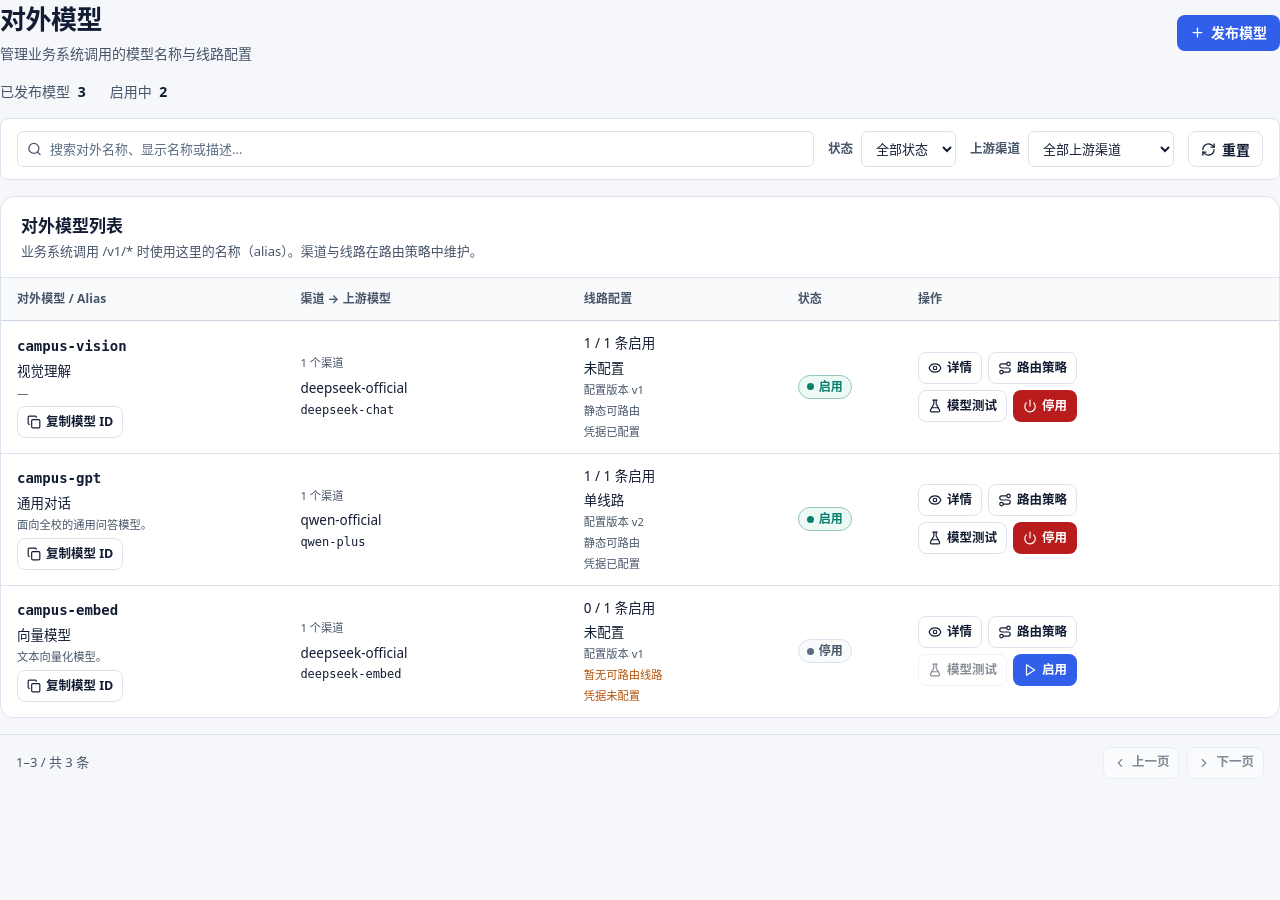
it: PublishedModelsPage › shows the real channel and upstream relationship, copies the full alias and opens its diagnostic directly
This screenshot has width=1280, height=900.
Check: the row "campus-vision" shows "deepseek-official", box [300,379,407,397]
Check: the row "campus-vision" shows "deepseek-chat", box [300,402,394,416]
Click the button "复制模型 ID" below "视觉理解" at (70, 422), box [17,406,123,438]
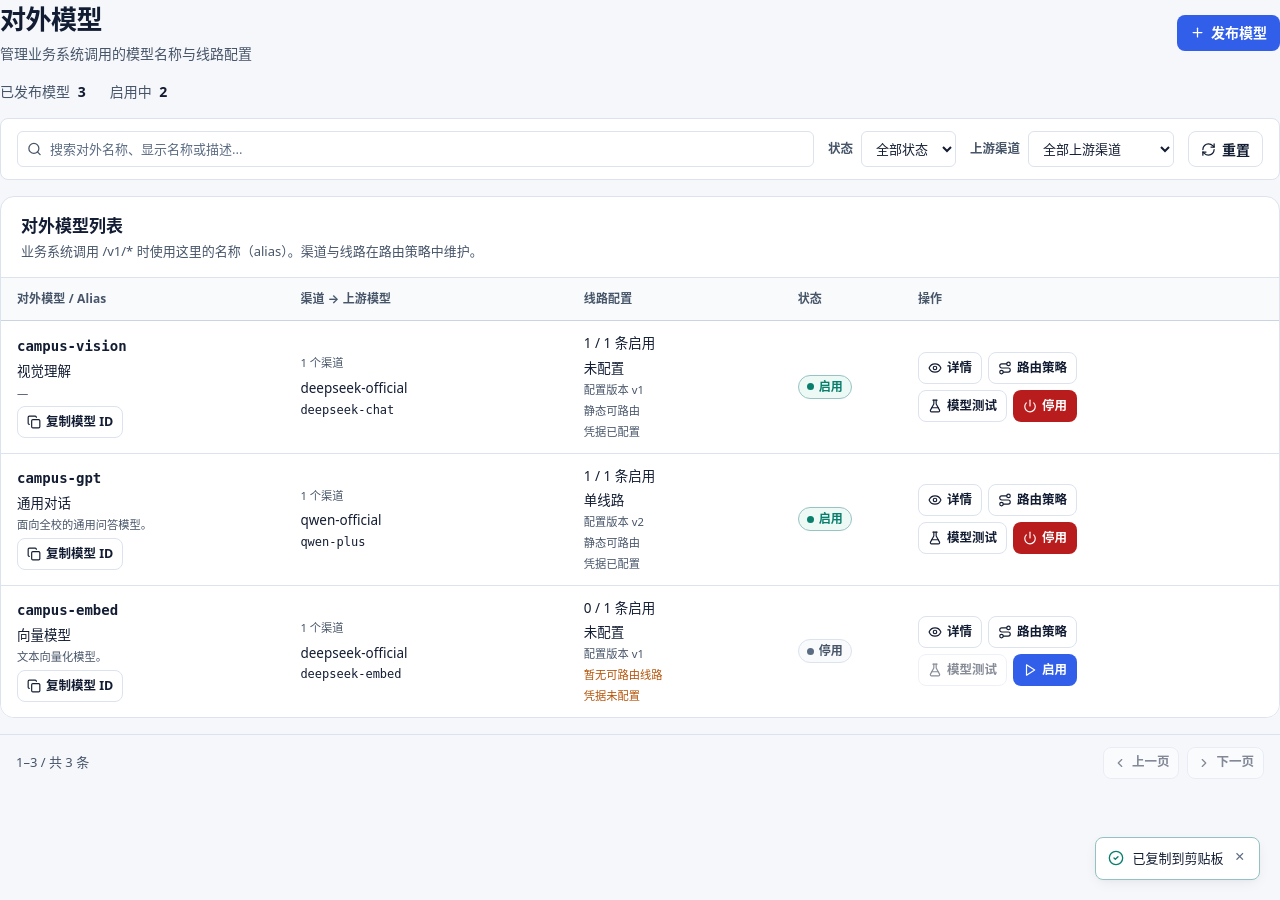
Click the button "模型测试" in the row of "deepseek-chat" at (962, 406), box [918,390,1007,422]
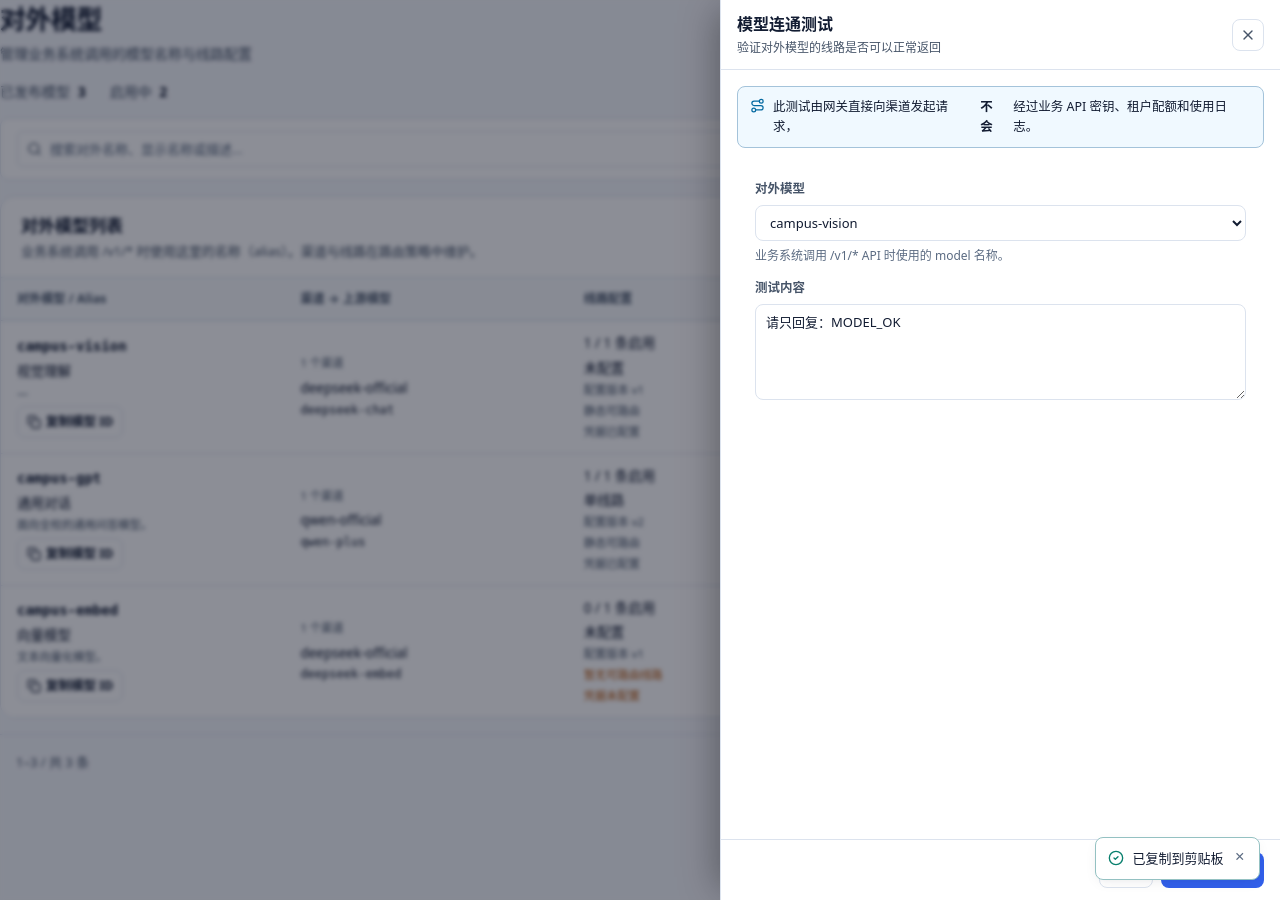
Check: the heading "模型连通测试" is shown, box [737,13,833,35]
Check: the dropdown labelled "对外模型 业务系统调用 /v1/* API 时使用的 model 名称。" shows "campus-vision", box [755,205,1246,241]
